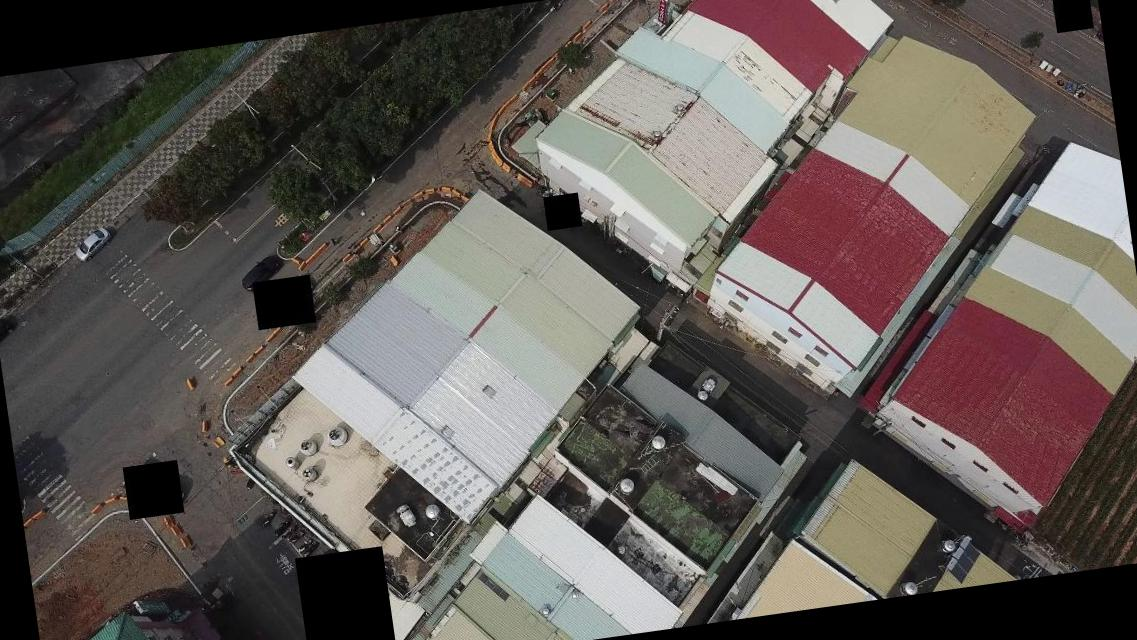vehicle: (236, 256, 286, 294), (70, 228, 111, 264)
